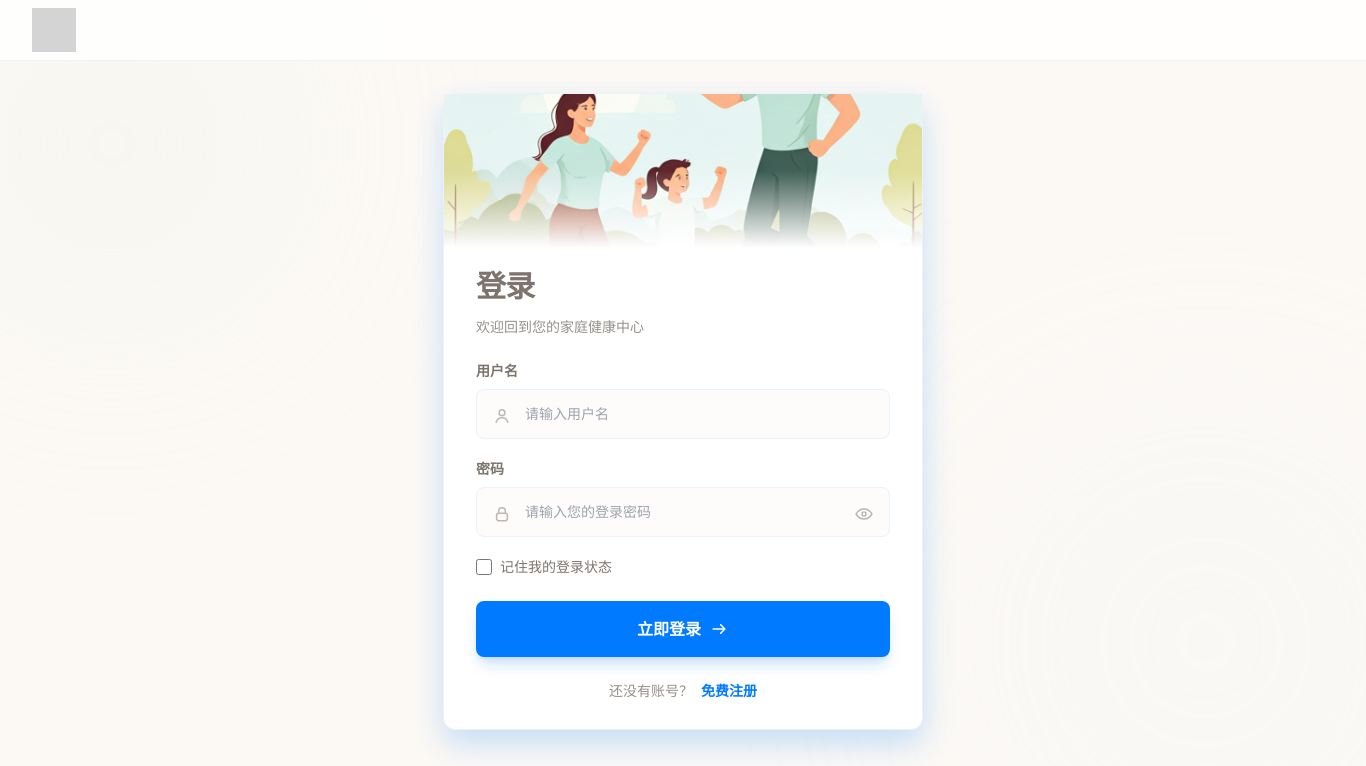
Scenario: App › applies the persisted server language preference after login
Step 1. Type "管理员" into the field labelled "用户名" → (683, 414), box 476,389 -> 890,439
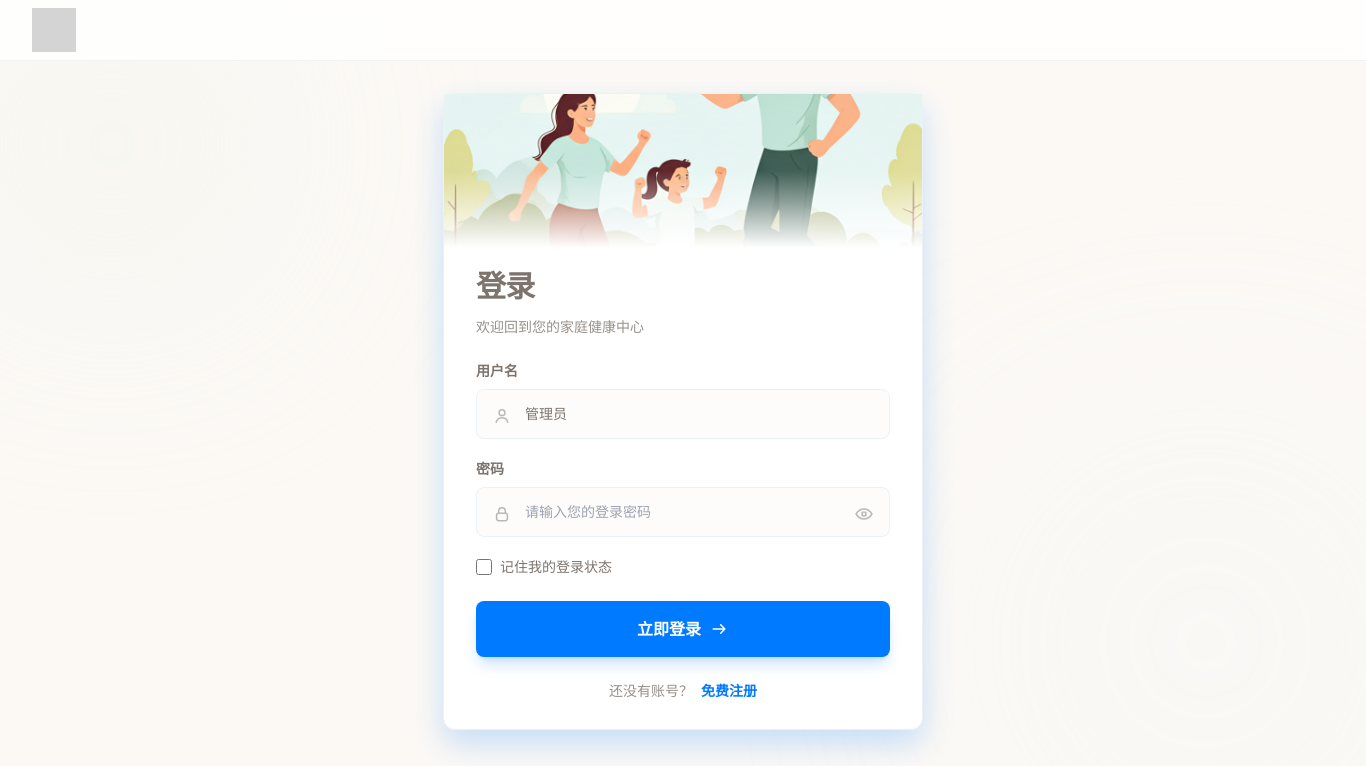
Step 2. Type "Secret123!" into the password field labelled "密码" → (683, 512), box 476,487 -> 890,537
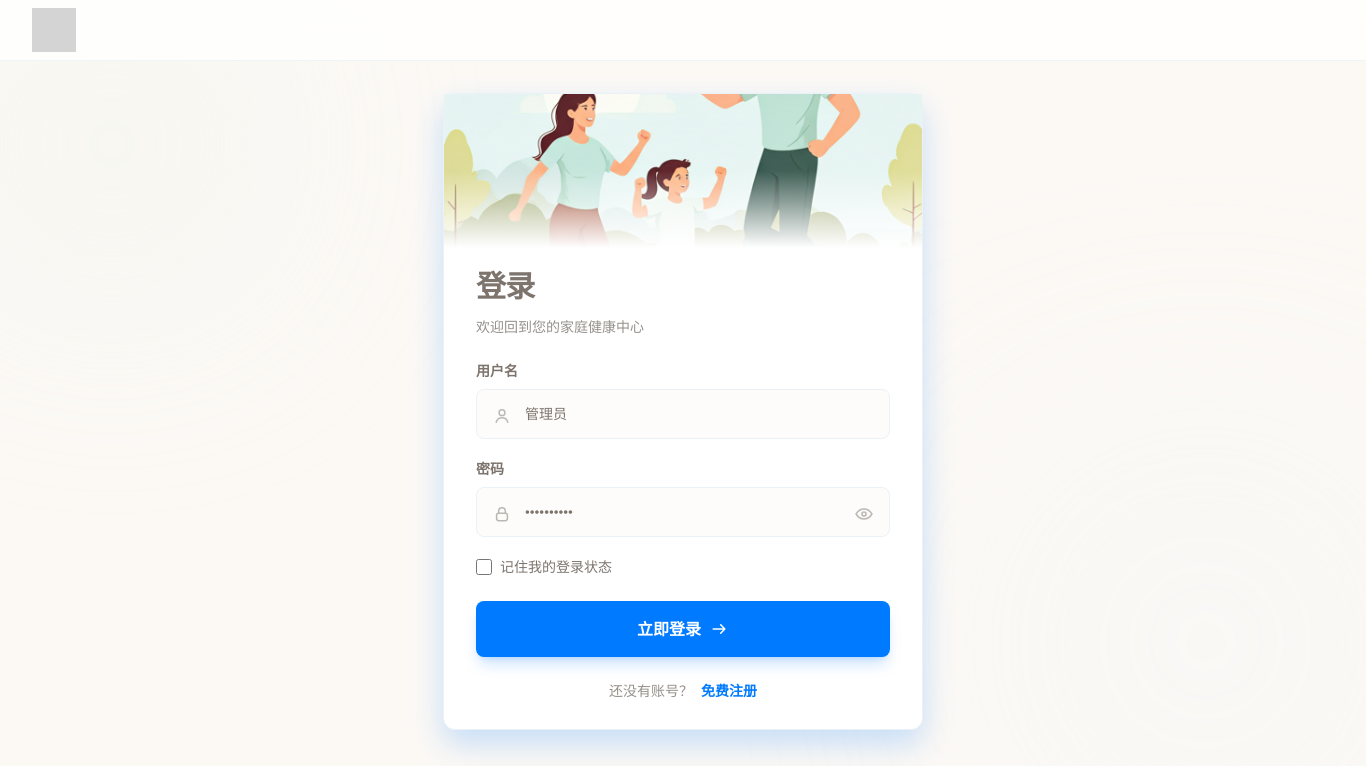
Step 3. Click the button "立即登录" → (683, 629), box 476,601 -> 890,657
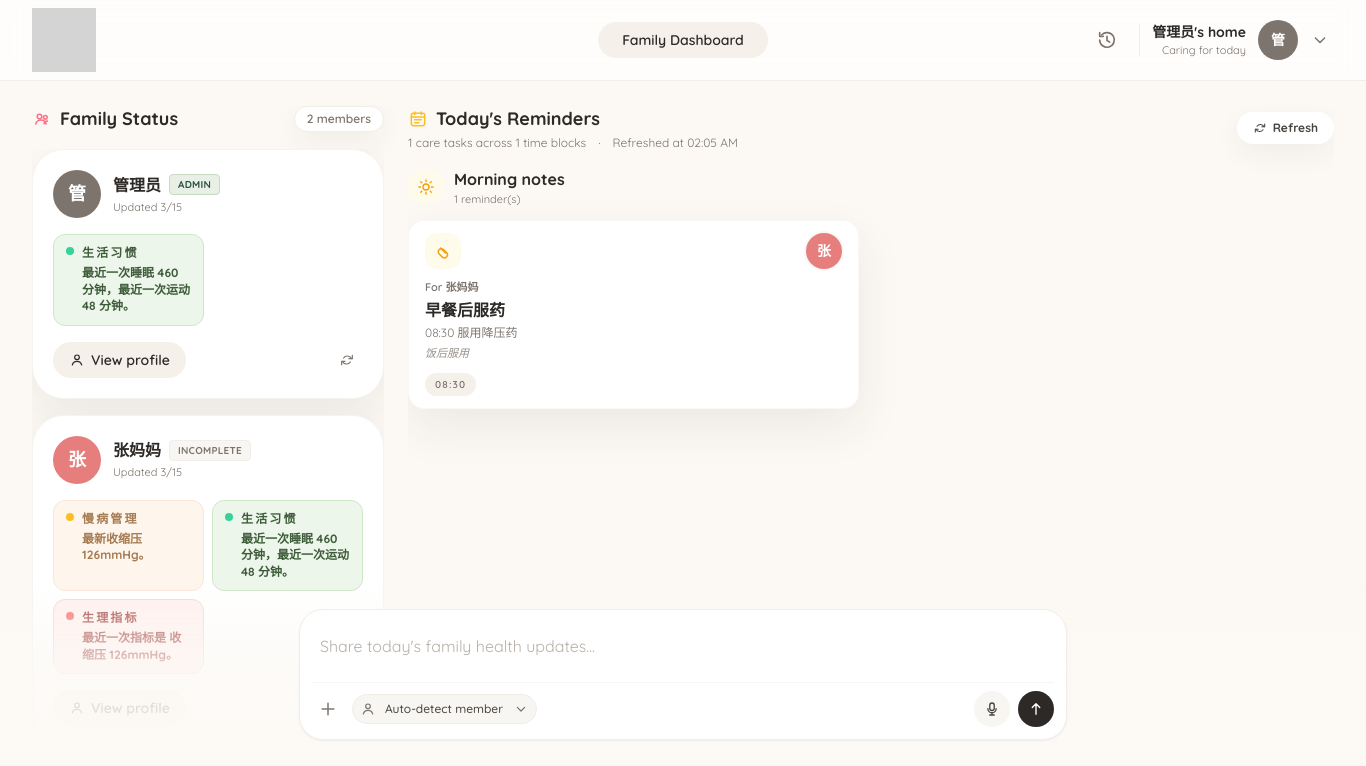
Expected: the heading "Family Status" is shown, 32,105 -> 178,133
